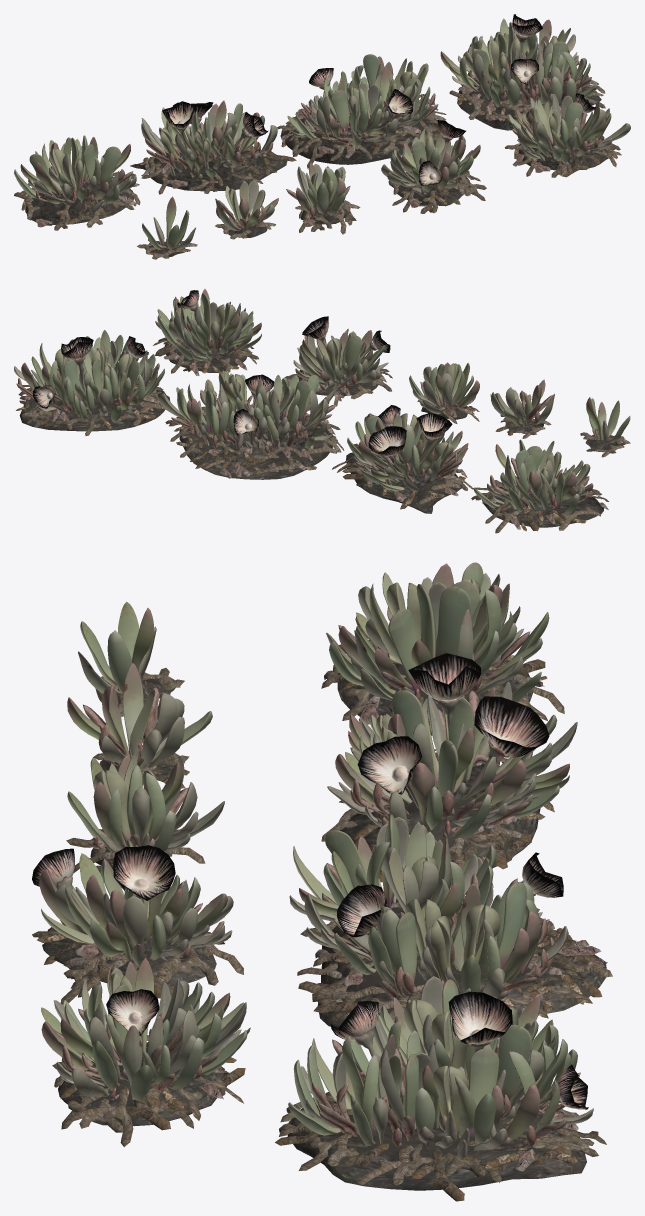
The model's file is cheiridopsis_succulent.glb.
3 renders of one model, top to bottom at view 1: azimuth 30°, elevation 25°; view 2: azimuth 150°, elevation 25°; view 3: azimuth 270°, elevation 25°, orthographic. The views are drawn at different scales.
Parts seen in each view (by area): view 1: cheiridopsis_succulent_h_LOD0, cheiridopsis_succulent_i_LOD0, cheiridopsis_succulent_g_LOD0, cheiridopsis_succulent_f_LOD0, cheiridopsis_succulent_e_LOD0, cheiridopsis_succulent_d_LOD0, cheiridopsis_succulent_c_LOD0, cheiridopsis_succulent_b_LOD0, cheiridopsis_succulent_a_LOD0; view 2: cheiridopsis_succulent_h_LOD0, cheiridopsis_succulent_i_LOD0, cheiridopsis_succulent_g_LOD0, cheiridopsis_succulent_f_LOD0, cheiridopsis_succulent_e_LOD0, cheiridopsis_succulent_d_LOD0, cheiridopsis_succulent_c_LOD0, cheiridopsis_succulent_b_LOD0, cheiridopsis_succulent_a_LOD0; view 3: cheiridopsis_succulent_i_LOD0, cheiridopsis_succulent_h_LOD0, cheiridopsis_succulent_g_LOD0, cheiridopsis_succulent_e_LOD0, cheiridopsis_succulent_d_LOD0, cheiridopsis_succulent_f_LOD0, cheiridopsis_succulent_c_LOD0, cheiridopsis_succulent_b_LOD0, cheiridopsis_succulent_a_LOD0.
Boxes of the visible parts, <box> form: cheiridopsis_succulent_h_LOD0: <box>277,54,446,168</box>; cheiridopsis_succulent_i_LOD0: <box>440,14,605,130</box>; cheiridopsis_succulent_g_LOD0: <box>130,100,296,194</box>; cheiridopsis_succulent_f_LOD0: <box>14,135,140,230</box>; cheiridopsis_succulent_e_LOD0: <box>505,93,630,177</box>; cheiridopsis_succulent_d_LOD0: <box>381,120,486,213</box>; cheiridopsis_succulent_c_LOD0: <box>286,162,360,234</box>; cheiridopsis_succulent_b_LOD0: <box>215,180,278,239</box>; cheiridopsis_succulent_a_LOD0: <box>137,196,197,259</box>; cheiridopsis_succulent_h_LOD0: <box>159,370,344,479</box>; cheiridopsis_succulent_i_LOD0: <box>14,330,170,435</box>; cheiridopsis_succulent_g_LOD0: <box>332,405,473,513</box>; cheiridopsis_succulent_f_LOD0: <box>471,439,608,533</box>; cheiridopsis_succulent_e_LOD0: <box>153,289,261,376</box>; cheiridopsis_succulent_d_LOD0: <box>284,316,392,406</box>; cheiridopsis_succulent_c_LOD0: <box>409,362,479,423</box>; cheiridopsis_succulent_b_LOD0: <box>490,379,554,438</box>; cheiridopsis_succulent_a_LOD0: <box>580,397,630,457</box>; cheiridopsis_succulent_i_LOD0: <box>275,976,606,1201</box>; cheiridopsis_succulent_h_LOD0: <box>289,814,612,1027</box>; cheiridopsis_succulent_g_LOD0: <box>321,653,577,894</box>; cheiridopsis_succulent_e_LOD0: <box>41,958,250,1146</box>; cheiridopsis_succulent_d_LOD0: <box>32,840,243,1004</box>; cheiridopsis_succulent_f_LOD0: <box>321,562,564,735</box>; cheiridopsis_succulent_c_LOD0: <box>66,749,224,882</box>; cheiridopsis_succulent_b_LOD0: <box>67,663,212,788</box>; cheiridopsis_succulent_a_LOD0: <box>78,601,184,716</box>.
Size of the model in its own units: 2.16 by 0.2708 by 0.9587.
Materials: 2 (2 with a texture image).
